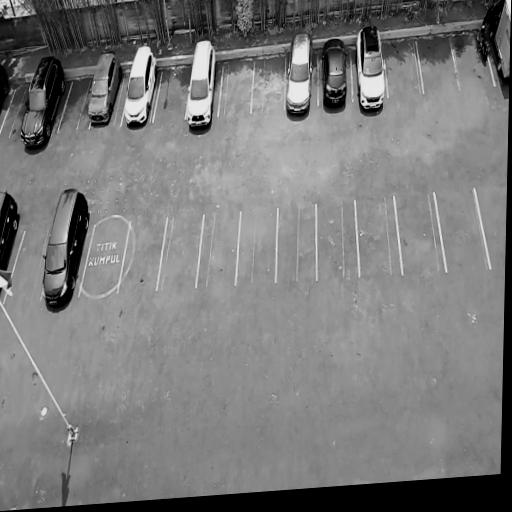Car: (35, 176, 94, 317), (16, 53, 72, 153), (119, 43, 163, 130), (184, 38, 220, 135), (87, 45, 126, 132), (354, 22, 388, 116), (482, 0, 511, 90), (320, 36, 352, 115), (286, 31, 315, 117), (0, 188, 22, 289)
Space Available: (435, 189, 490, 270), (395, 194, 447, 273), (4, 227, 52, 305), (118, 217, 166, 293), (79, 223, 130, 294), (356, 197, 402, 275), (316, 200, 360, 281), (157, 215, 204, 289), (235, 209, 277, 286), (196, 213, 240, 286), (276, 205, 317, 283), (416, 32, 460, 93), (384, 37, 424, 98), (57, 73, 96, 132), (154, 65, 192, 122), (218, 60, 255, 114), (251, 55, 286, 112), (0, 84, 31, 141)
